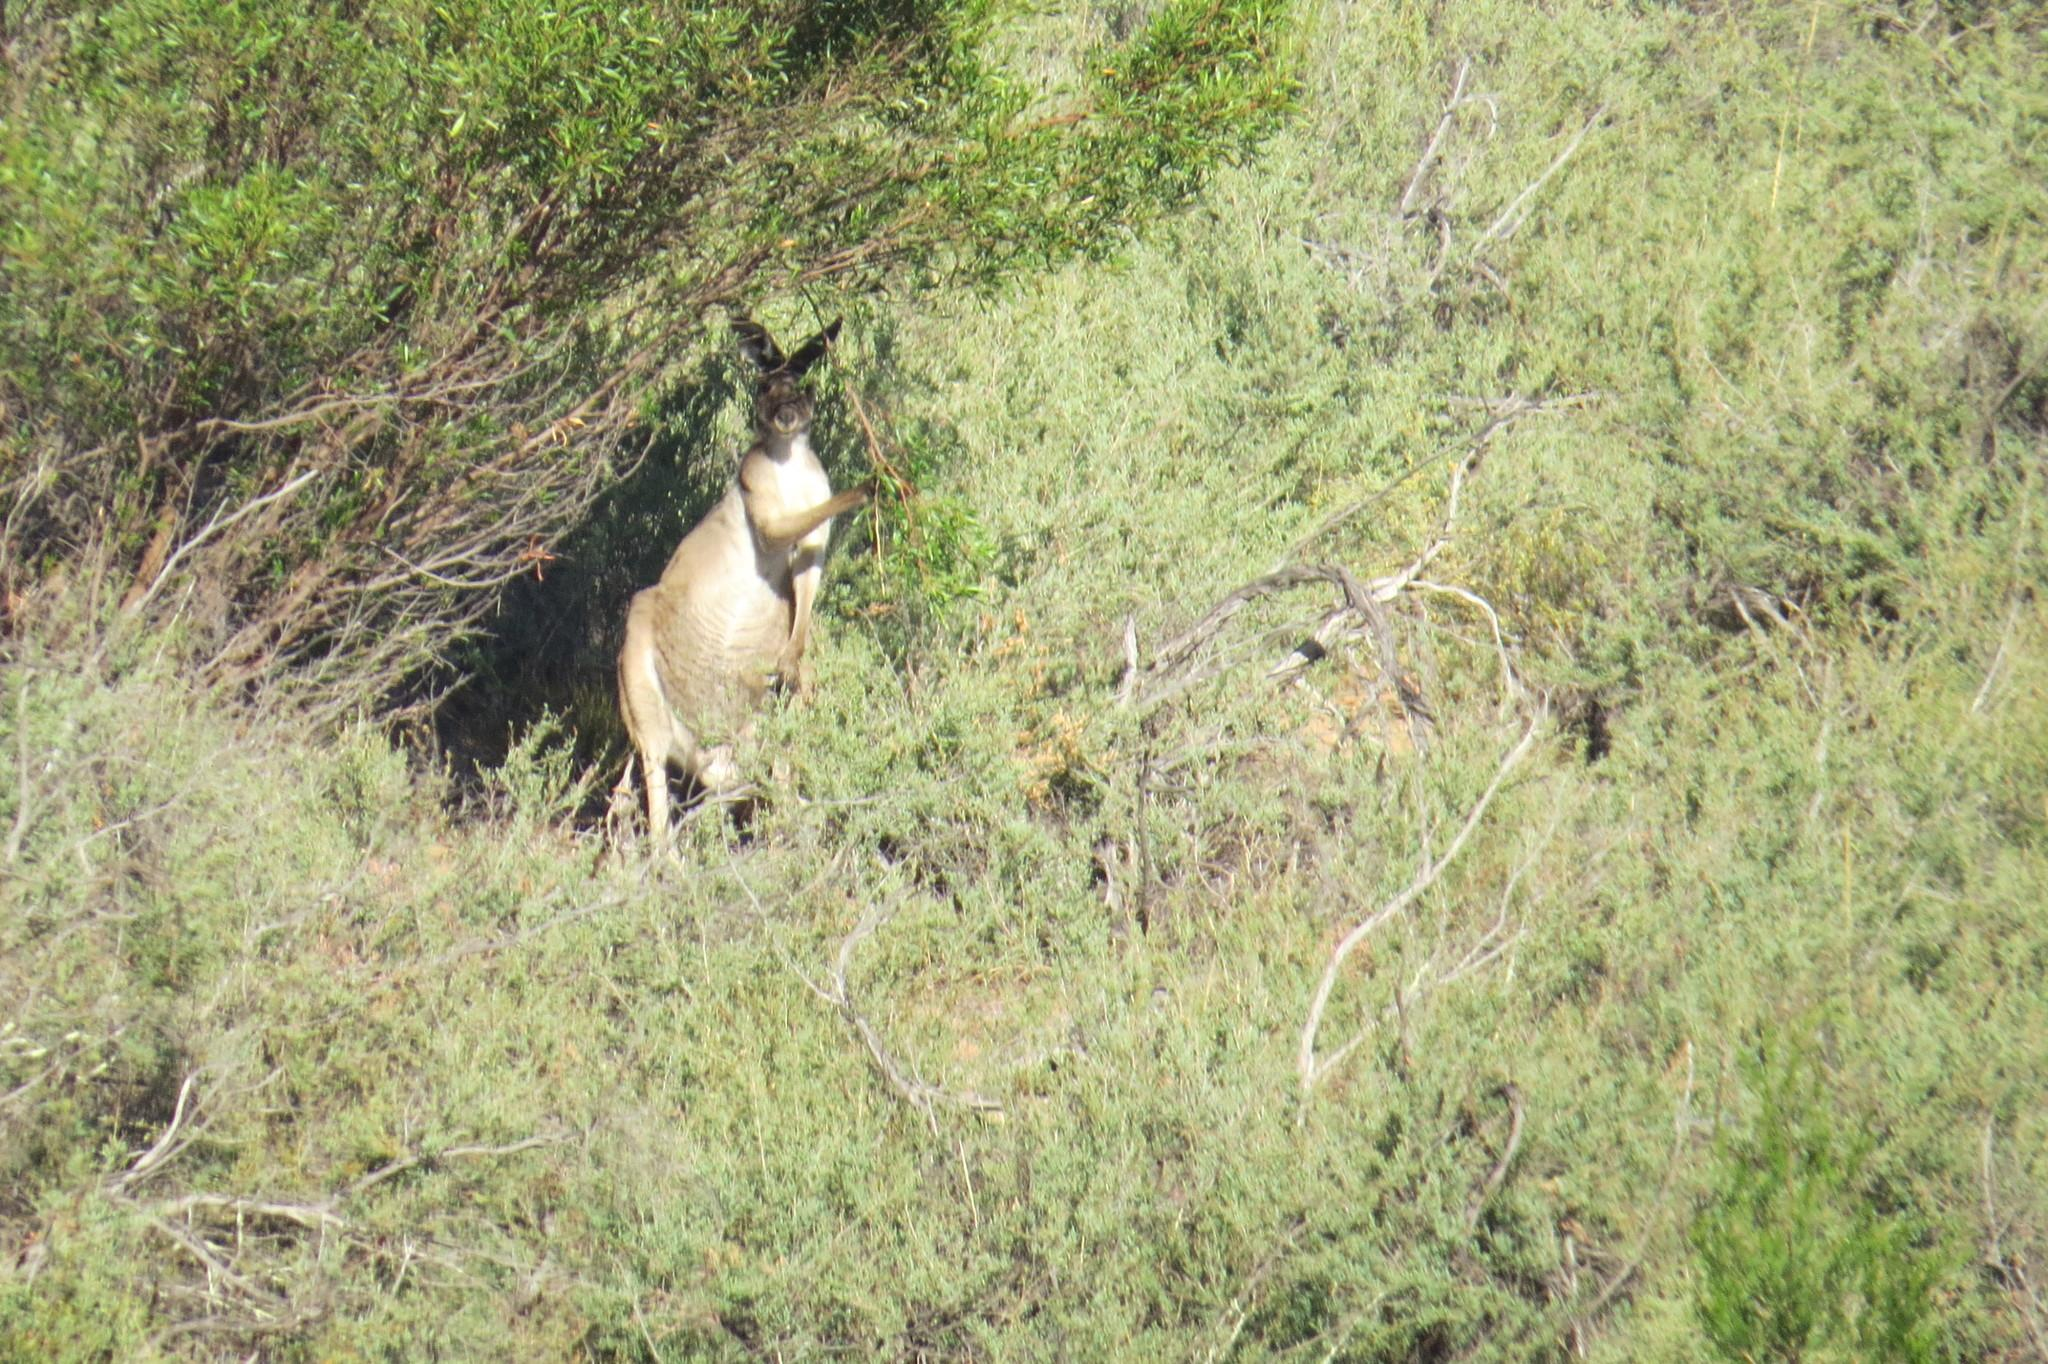Western grey kangaroo: (574, 311, 886, 874)
